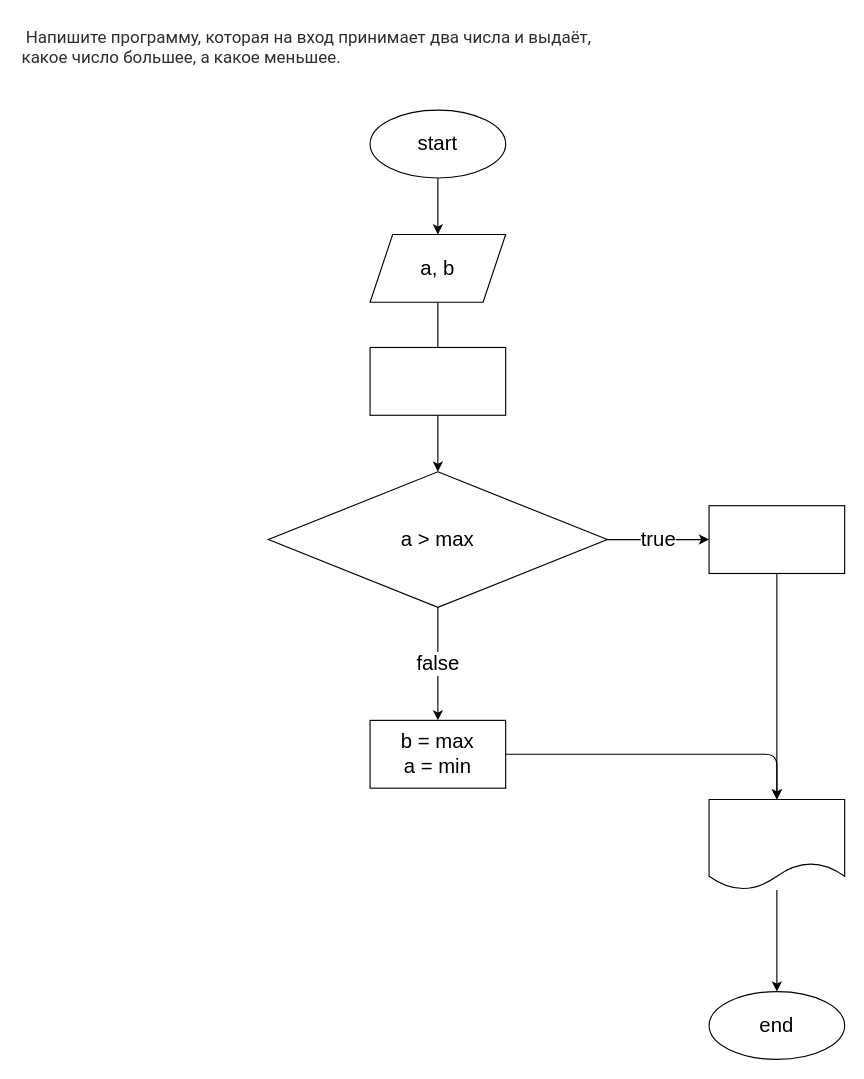
Image size: 864x1079. Some labels were removed from this diagram. The centre of each missing label's shape, as x and y in pixels:
"b = min a = max" goes at [776,539].
"max = b min = a" goes at [437,380].
"min, max" goes at [776,844].
